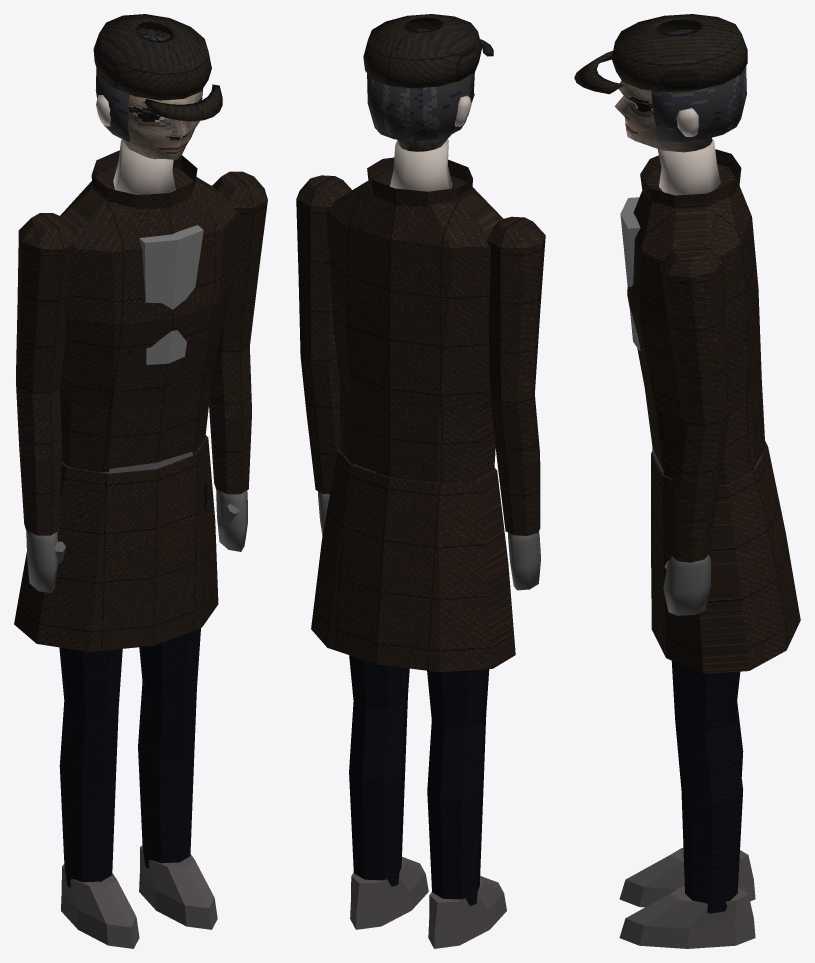
Rendered from char_distant_figure.glb.
3 renders of one model, left to right at view 1: azimuth 30°, elevation 25°; view 2: azimuth 150°, elevation 25°; view 3: azimuth 270°, elevation 25°, orthographic.
Visible parts, largest first — view 1: JacketTorso, CoatSkirt, ArmSleeve_L, LegL_Pivot_Leg, LegR_Pivot_Leg, ArmSleeve_R, CapDome, ShirtCollar, LegL_Pivot_Boot, LegR_Pivot_Boot, OrganicHeadMesh, NeckOrganic (+5 smaller); view 2: JacketTorso, CoatSkirt, ArmSleeve_L, LegL_Pivot_Leg, LegR_Pivot_Leg, ArmSleeve_R, CapDome, HairUnderCap, LegR_Pivot_Boot, LegL_Pivot_Boot, NeckOrganic, JacketCollarRim (+2 smaller); view 3: JacketTorso, CoatSkirt, ArmSleeve_R, LegR_Pivot_Leg, CapDome, LegR_Pivot_Boot, HairUnderCap, LegL_Pivot_Boot, NeckOrganic, OrganicHeadMesh, Hand_R, JacketCollarRim (+3 smaller).
Boxes of the visible parts, x1=… form: JacketTorso: x1=60, y1=167, x2=239, y2=471; CoatSkirt: x1=14, y1=435, x2=218, y2=651; ArmSleeve_L: x1=16, y1=213, x2=75, y2=535; LegL_Pivot_Leg: x1=59, y1=515, x2=122, y2=887; LegR_Pivot_Leg: x1=138, y1=482, x2=207, y2=868; ArmSleeve_R: x1=209, y1=171, x2=267, y2=494; CapDome: x1=93, y1=14, x2=211, y2=100; ShirtCollar: x1=139, y1=225, x2=203, y2=364; LegL_Pivot_Boot: x1=61, y1=864, x2=139, y2=948; LegR_Pivot_Boot: x1=139, y1=845, x2=217, y2=929; OrganicHeadMesh: x1=123, y1=28, x2=202, y2=159; NeckOrganic: x1=113, y1=139, x2=175, y2=194; JacketTorso: x1=326, y1=172, x2=503, y2=482; CoatSkirt: x1=311, y1=449, x2=515, y2=672; ArmSleeve_L: x1=487, y1=216, x2=545, y2=535; LegL_Pivot_Leg: x1=427, y1=669, x2=489, y2=905; LegR_Pivot_Leg: x1=349, y1=655, x2=409, y2=886; ArmSleeve_R: x1=296, y1=175, x2=351, y2=494; CapDome: x1=363, y1=14, x2=481, y2=88; HairUnderCap: x1=367, y1=72, x2=474, y2=141; LegR_Pivot_Boot: x1=350, y1=857, x2=428, y2=929; LegL_Pivot_Boot: x1=428, y1=876, x2=506, y2=948; NeckOrganic: x1=390, y1=139, x2=452, y2=191; JacketCollarRim: x1=367, y1=157, x2=472, y2=207; JacketTorso: x1=627, y1=164, x2=765, y2=484; CoatSkirt: x1=651, y1=441, x2=800, y2=673; ArmSleeve_R: x1=659, y1=241, x2=728, y2=562; LegR_Pivot_Leg: x1=671, y1=661, x2=743, y2=913; CapDome: x1=611, y1=14, x2=747, y2=92; LegR_Pivot_Boot: x1=619, y1=886, x2=755, y2=948; HairUnderCap: x1=651, y1=66, x2=746, y2=141; LegL_Pivot_Boot: x1=619, y1=848, x2=755, y2=907; NeckOrganic: x1=657, y1=139, x2=720, y2=195; OrganicHeadMesh: x1=614, y1=29, x2=712, y2=152; Hand_R: x1=663, y1=555, x2=710, y2=615; JacketCollarRim: x1=640, y1=149, x2=741, y2=208.
Bounding box in the file's own units: 0.5479 × 1.91 × 0.437.
Materials: 9 (5 with a texture image).
